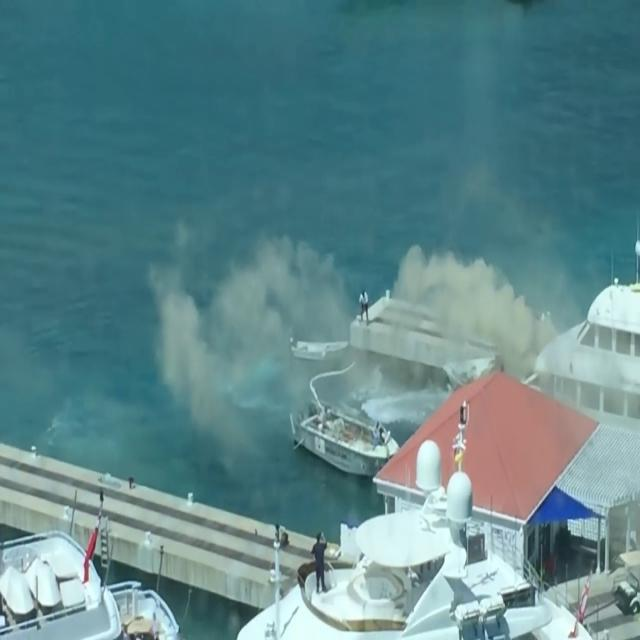Smoke: (142, 215, 366, 474), (386, 228, 568, 390)
